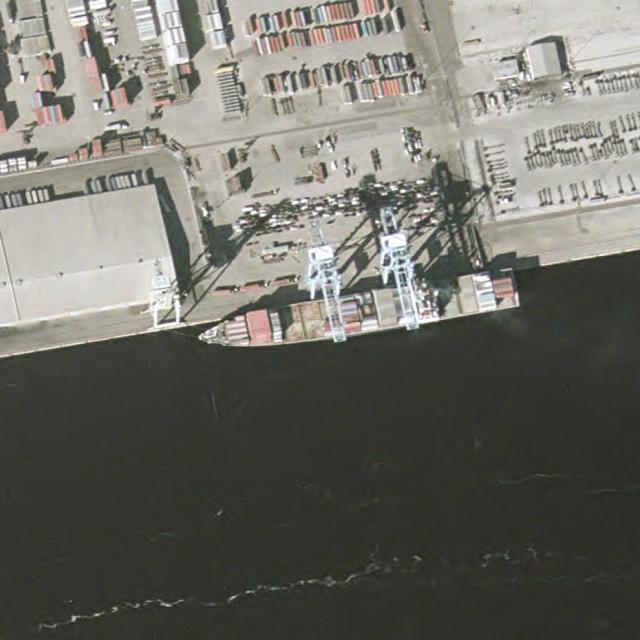Container Ship: (193, 265, 524, 360)
